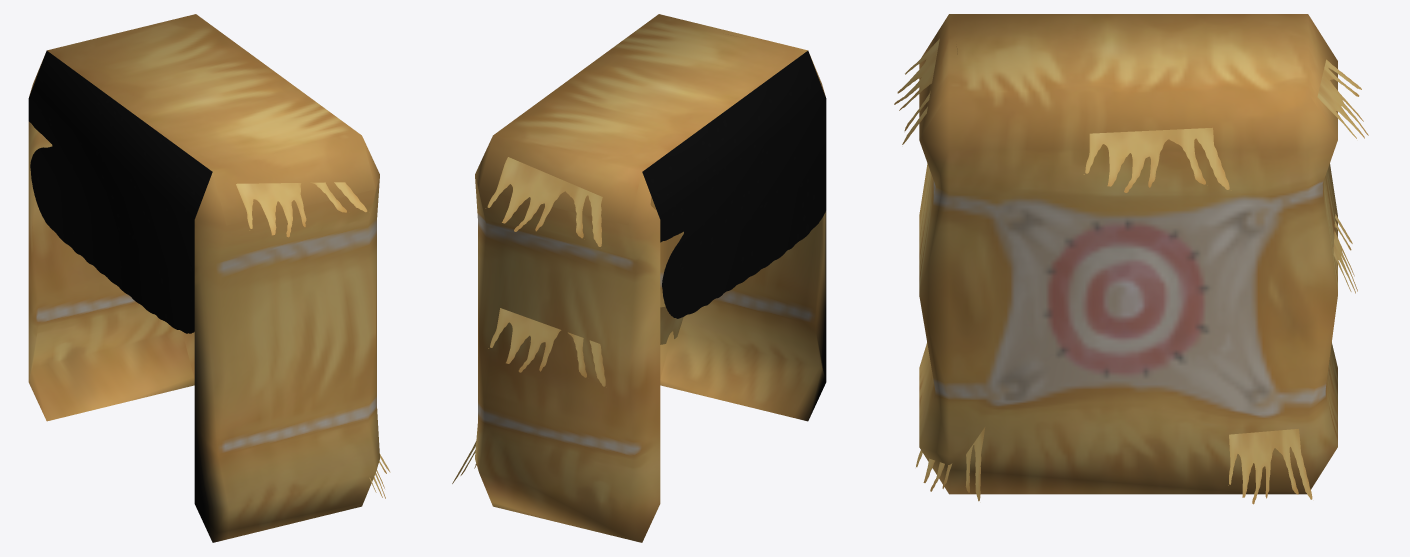
File: Hay_Target.FBX
3 views of the same model, side by side, from view 1: azimuth 30°, elevation 25°; view 2: azimuth 150°, elevation 25°; view 3: azimuth 270°, elevation 25° (orthographic). The views are drawn at different scales.
Visible parts, largest first — view 1: Hay_Target; view 2: Hay_Target; view 3: Hay_Target.
Boxes of the visible parts, x1,y1,x2,y2 form: Hay_Target: (28,14,390,542); Hay_Target: (452,14,826,542); Hay_Target: (894,14,1368,504).
Size of what is drawn, in the model's own units: 84.61 by 153 by 136.
1 material, 1 textured.
